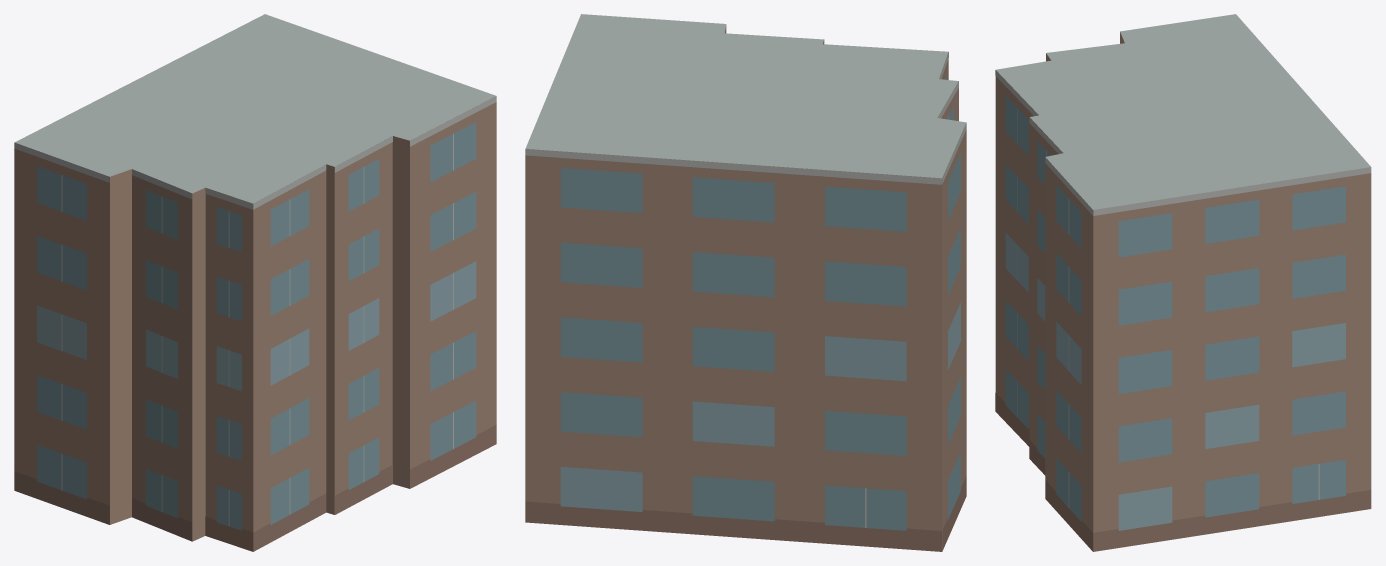
File: survey-upis-32937016.glb
3 views of the same model, side by side, from view 1: azimuth 30°, elevation 25°; view 2: azimuth 150°, elevation 25°; view 3: azimuth 270°, elevation 25° (orthographic). The views are drawn at different scales.
Parts seen in each view (by area): view 1: survey-upis-32937016.tmp; view 2: survey-upis-32937016.tmp; view 3: survey-upis-32937016.tmp.
Part boxes in pixels (<box>): survey-upis-32937016.tmp: <box>14,14,496,551</box>; survey-upis-32937016.tmp: <box>525,14,966,551</box>; survey-upis-32937016.tmp: <box>995,14,1371,551</box>.
Size of the model in its own units: 17.11 by 13.9 by 13.86.
